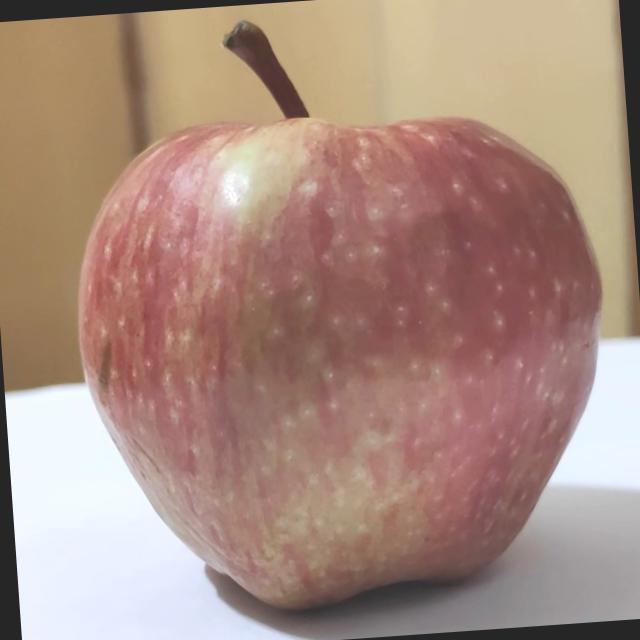apple: (9, 0, 638, 640)
